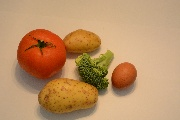broccoli: (76, 50, 113, 89)
egg: (112, 61, 137, 88)
potato: (40, 78, 98, 113), (63, 28, 102, 53)
tomato: (17, 29, 66, 77)
